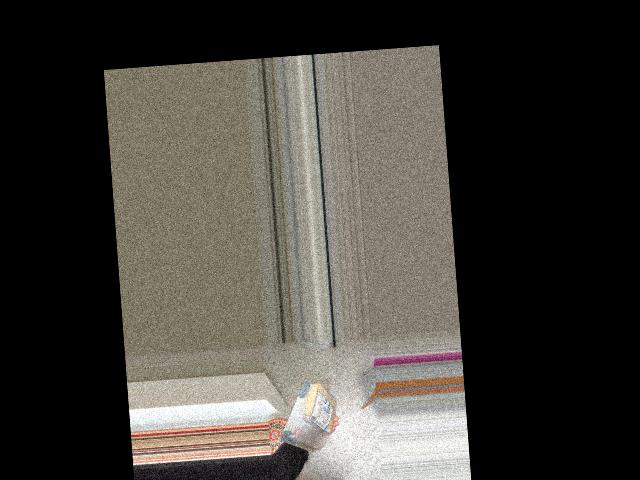cheese: (277, 376, 342, 465)
